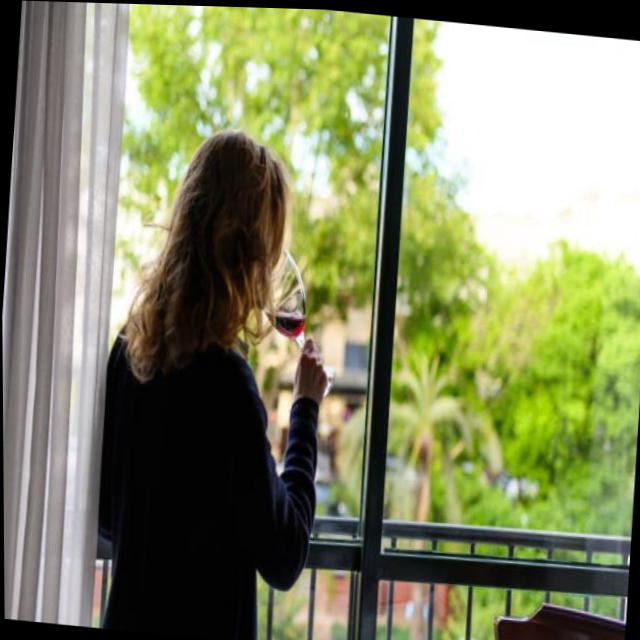no helmet: (155, 115, 297, 340)
